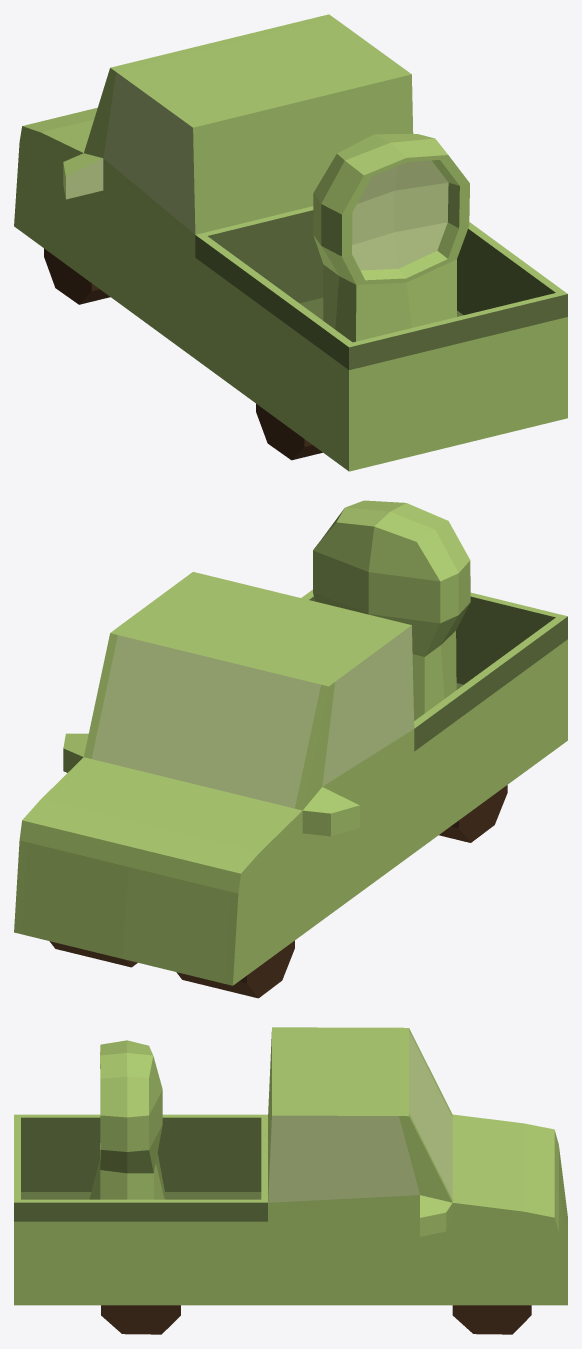
File: jeep.gltf
3 views of the same model, one above another, from view 1: azimuth 30°, elevation 25°; view 2: azimuth 150°, elevation 25°; view 3: azimuth 270°, elevation 25° (orthographic). The views are drawn at different scales.
Parts seen in each view (by area): view 1: jeep; view 2: jeep; view 3: jeep.
Part boxes in pixels (x1,y1,x2,y2): jeep: [14, 14, 567, 471]; jeep: [14, 500, 567, 998]; jeep: [14, 1027, 567, 1334].
Bounding box in the file's own units: 0.2621 × 0.2482 × 0.5176.
1 material, 1 textured.
